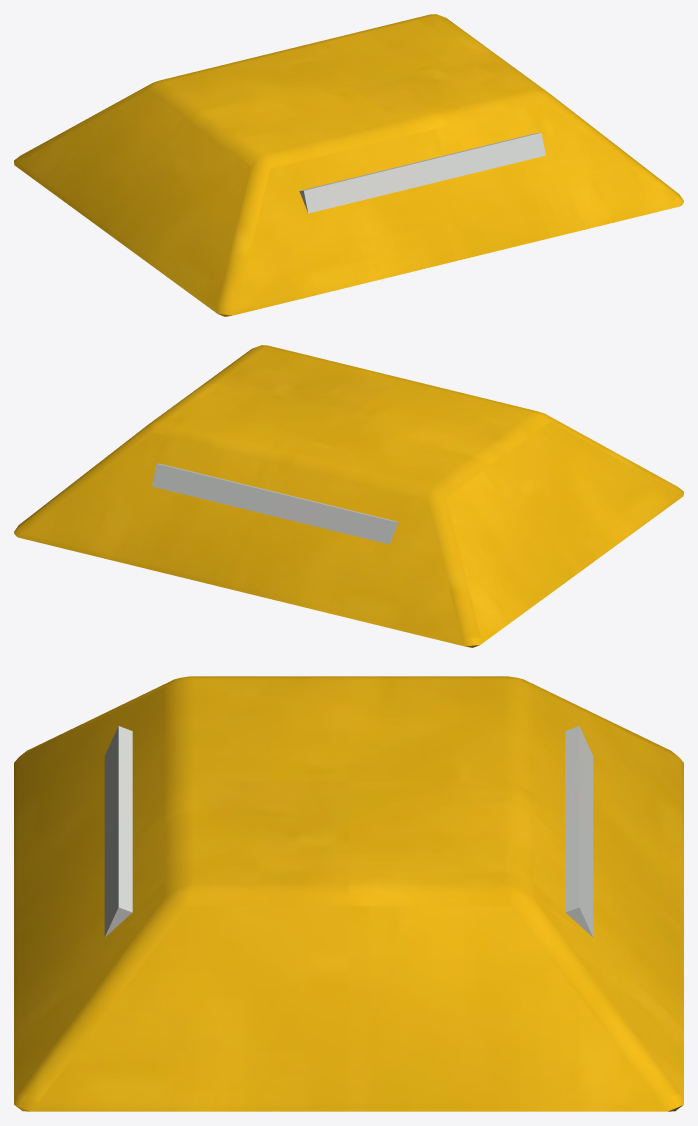
The model's file is PAV-SIN-002.glb.
3 views of the same model, one above another, from view 1: azimuth 30°, elevation 25°; view 2: azimuth 150°, elevation 25°; view 3: azimuth 270°, elevation 25° (orthographic). The views are drawn at different scales.
Visible parts, largest first — view 1: PAV-SIN-002_corpo, PAV-SIN-002_refletivo0; view 2: PAV-SIN-002_corpo, PAV-SIN-002_refletivo2; view 3: PAV-SIN-002_corpo, PAV-SIN-002_refletivo2, PAV-SIN-002_refletivo0.
Part boxes in pixels (x1=…): PAV-SIN-002_corpo: x1=14, y1=14, x2=683, y2=316; PAV-SIN-002_refletivo0: x1=299, y1=132, x2=545, y2=213; PAV-SIN-002_corpo: x1=14, y1=345, x2=683, y2=647; PAV-SIN-002_refletivo2: x1=152, y1=463, x2=398, y2=544; PAV-SIN-002_corpo: x1=14, y1=676, x2=683, y2=1111; PAV-SIN-002_refletivo2: x1=565, y1=726, x2=593, y2=937; PAV-SIN-002_refletivo0: x1=104, y1=726, x2=132, y2=937.
Bounding box in the file's own units: 0.098 × 0.02 × 0.078.
Materials: 2 (2 with a texture image).
